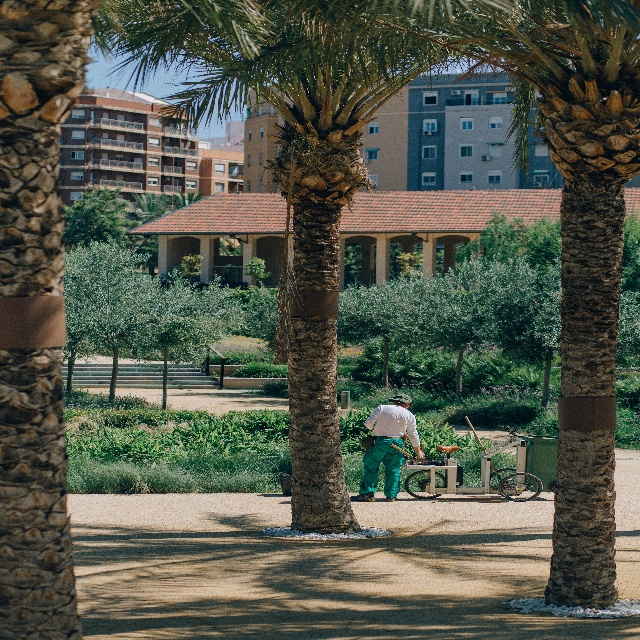Sin_guantes: (417, 450, 424, 461)
